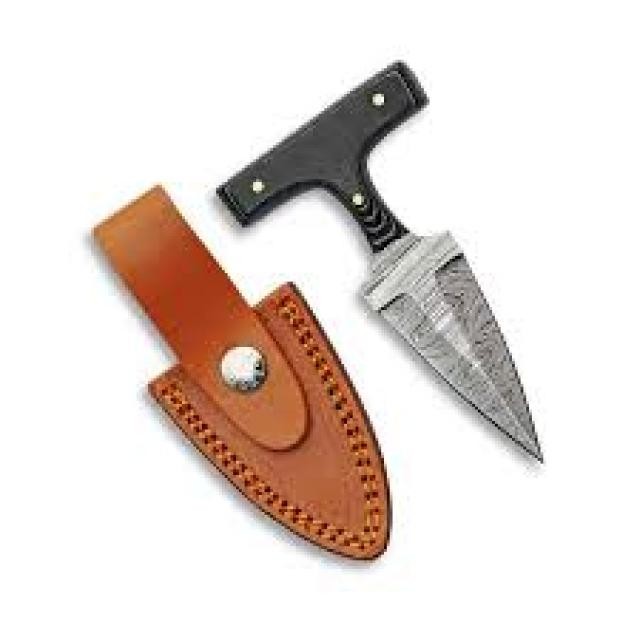Gun: (211, 54, 558, 529)
